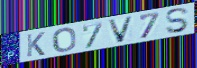7: (138, 10, 161, 40), (81, 20, 104, 49)
K: (26, 31, 47, 59)
O: (52, 26, 78, 53)
S: (164, 6, 191, 34)
V: (106, 15, 136, 44)
